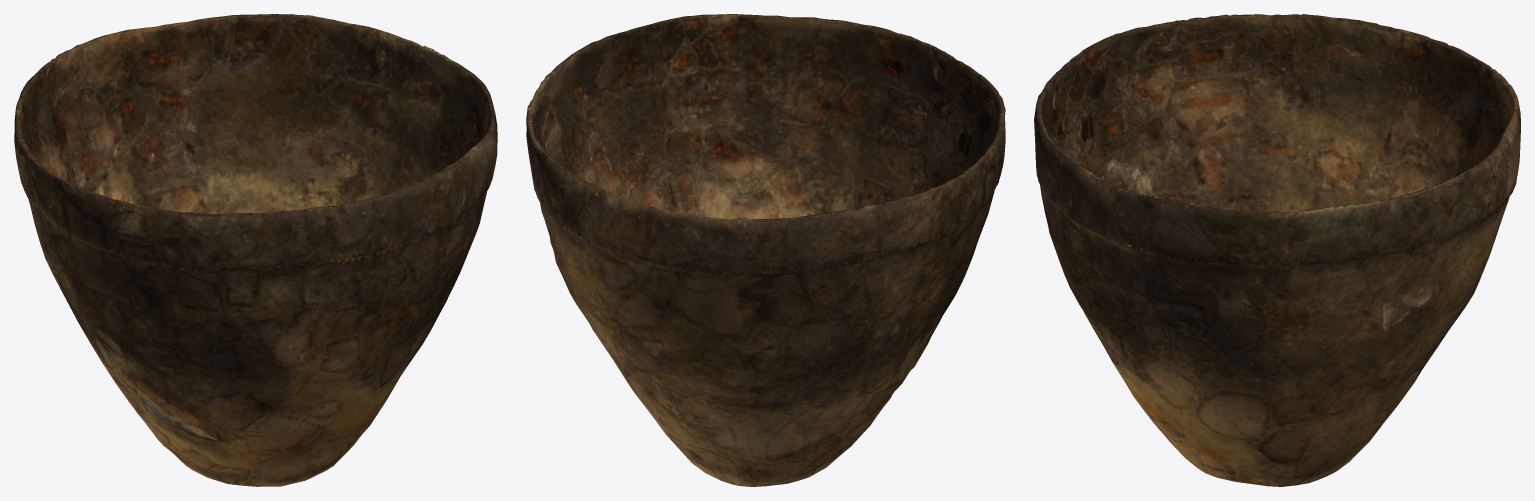
3 views of the same model, side by side, from view 1: azimuth 30°, elevation 25°; view 2: azimuth 150°, elevation 25°; view 3: azimuth 270°, elevation 25° (orthographic).
Visible parts, largest first — view 1: MY0007_low; view 2: MY0007_low; view 3: MY0007_low.
Part boxes in pixels (x1,y1,x2,y2): MY0007_low: (14, 14, 497, 486); MY0007_low: (526, 14, 1005, 486); MY0007_low: (1034, 14, 1520, 486).
Bounding box in the file's own units: 290 × 229 × 291.
Materials: 1 (1 with a texture image).
